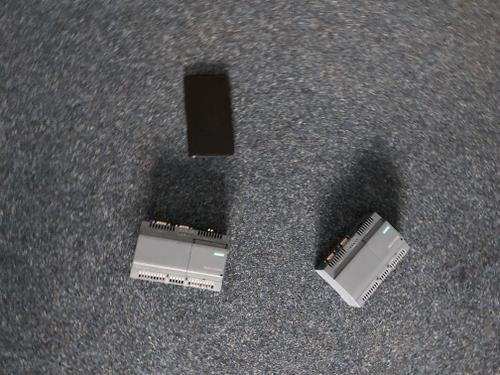device: (315, 213, 411, 308), (130, 221, 230, 292)
